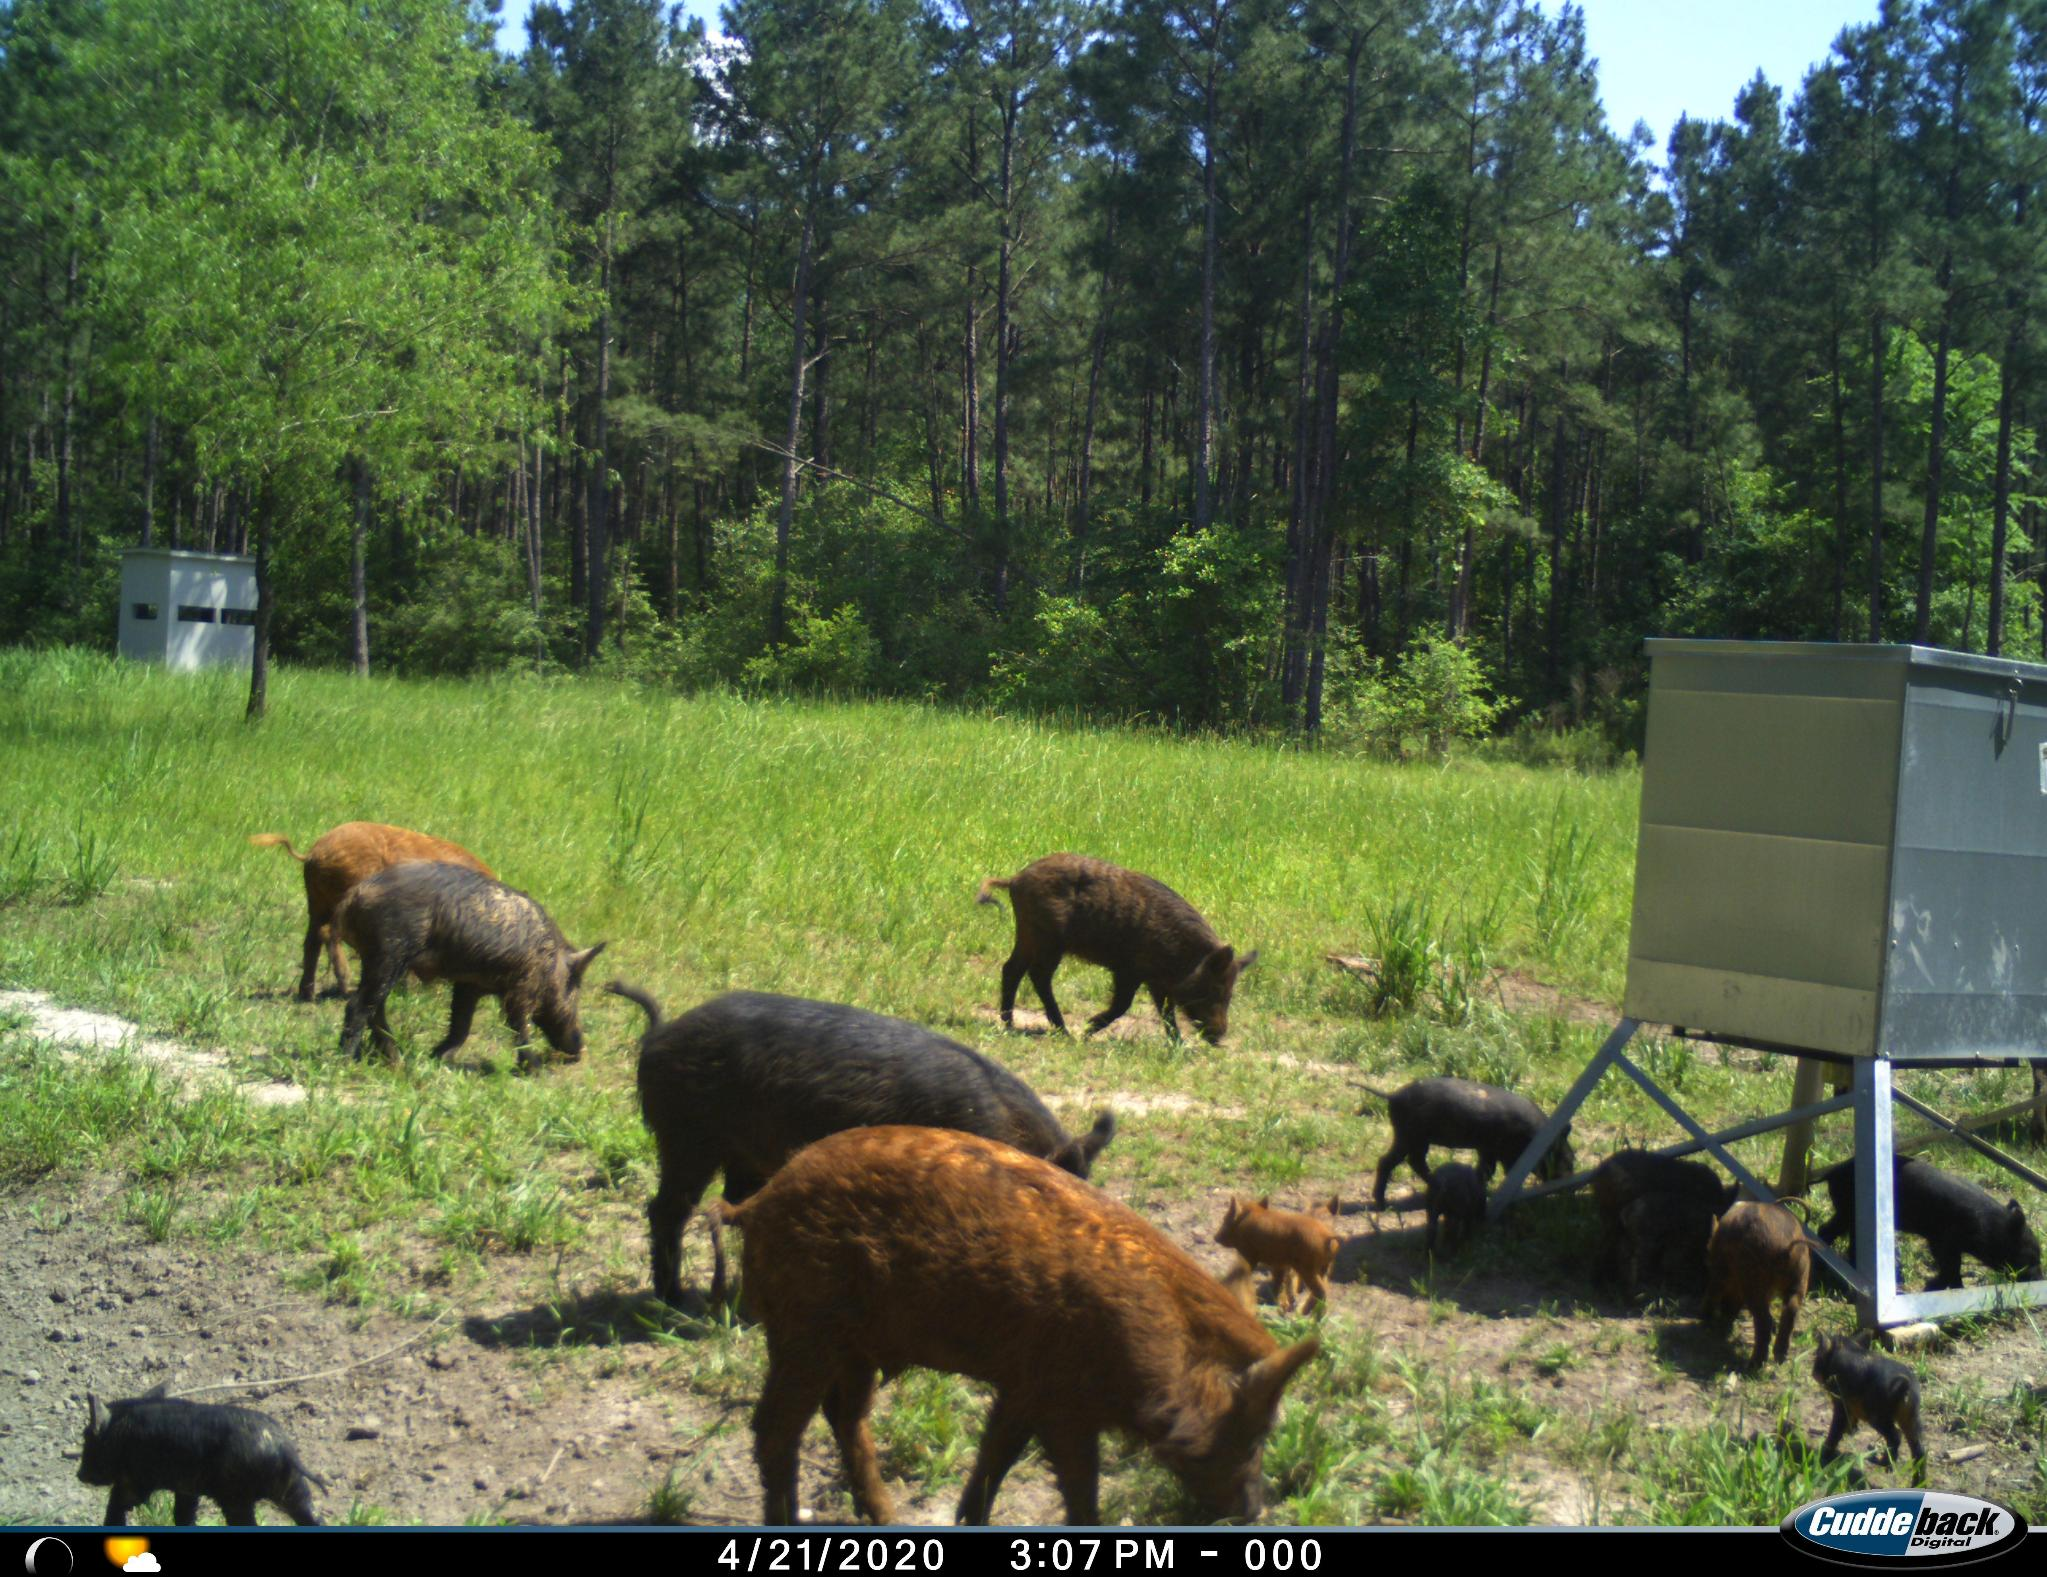Hog: (720, 1121, 1302, 1537), (606, 981, 1125, 1299), (977, 846, 1257, 1045), (340, 865, 593, 1065), (248, 813, 502, 982), (66, 1373, 336, 1526), (1817, 1153, 2039, 1300), (1350, 1072, 1585, 1193), (1577, 1151, 1739, 1264), (1701, 1199, 1807, 1365), (1812, 1332, 1933, 1473), (1214, 1189, 1348, 1314), (1406, 1160, 1492, 1251)
